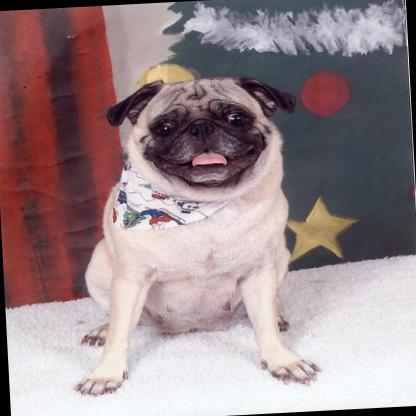pug: (52, 67, 322, 410)
